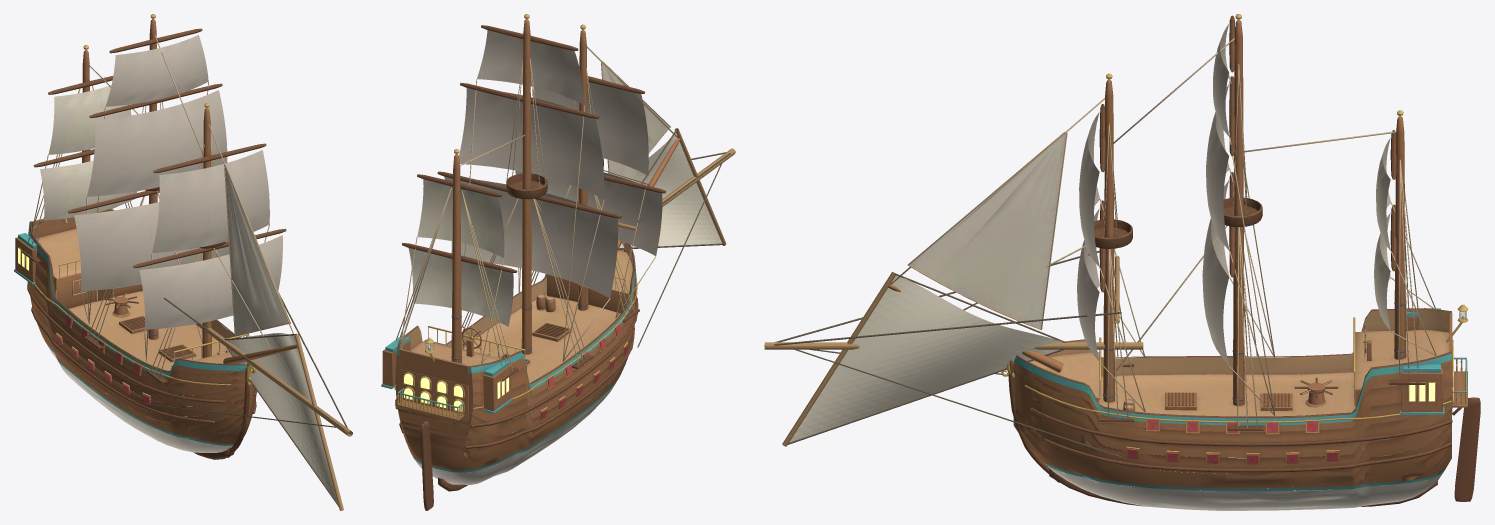
The model's file is nau-custom.glb.
The picture shows the model from 3 angles, left to right: view 1: azimuth 30°, elevation 25°; view 2: azimuth 150°, elevation 25°; view 3: azimuth 270°, elevation 25°; orthographic projection. The views are drawn at different scales.
Parts seen in each view (by area): view 1: galleon_body, nau mizzen lateen cloth, nau mizzen oak mast and lateen yard, nau mizzen ropes and rigging; view 2: galleon_body, nau mizzen lateen cloth, nau mizzen oak mast and lateen yard, nau mizzen ropes and rigging, galleon_window_glow; view 3: galleon_body, nau mizzen lateen cloth, nau mizzen ropes and rigging, nau mizzen oak mast and lateen yard.
Part boxes in pixels (<box>): galleon_body: <box>14,14,297,459</box>; nau mizzen lateen cloth: <box>227,333,337,503</box>; nau mizzen oak mast and lateen yard: <box>195,323,352,510</box>; nau mizzen ropes and rigging: <box>144,291,350,510</box>; galleon_body: <box>381,14,680,510</box>; nau mizzen lateen cloth: <box>619,131,722,247</box>; nau mizzen oak mast and lateen yard: <box>618,128,735,245</box>; nau mizzen ropes and rigging: <box>618,129,730,347</box>; galleon_window_glow: <box>404,373,508,411</box>; galleon_body: <box>888,14,1480,510</box>; nau mizzen lateen cloth: <box>789,274,1063,442</box>; nau mizzen ropes and rigging: <box>764,250,1121,457</box>; nau mizzen oak mast and lateen yard: <box>764,255,1143,446</box>.
Bounding box in the file's own units: 12.2 × 27.36 × 35.94.
Materials: 8 (1 with a texture image).
